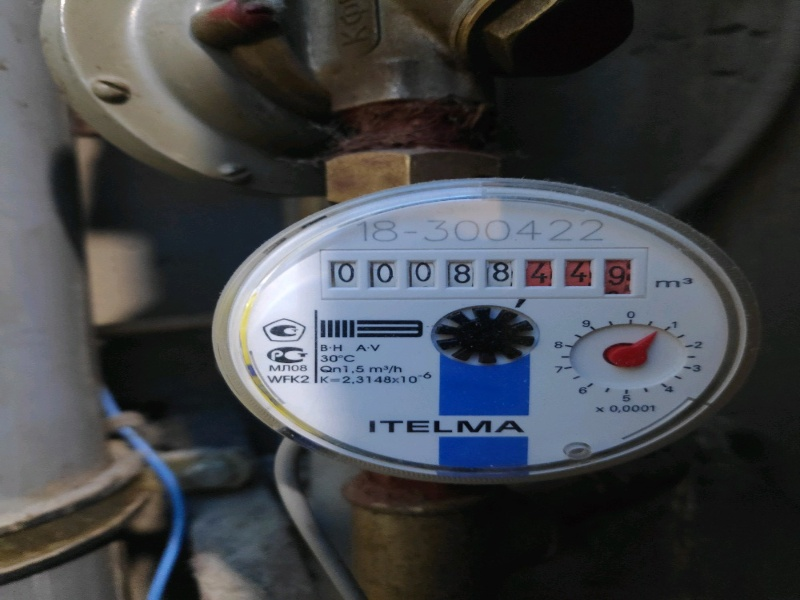meter: (319, 255, 649, 300)
